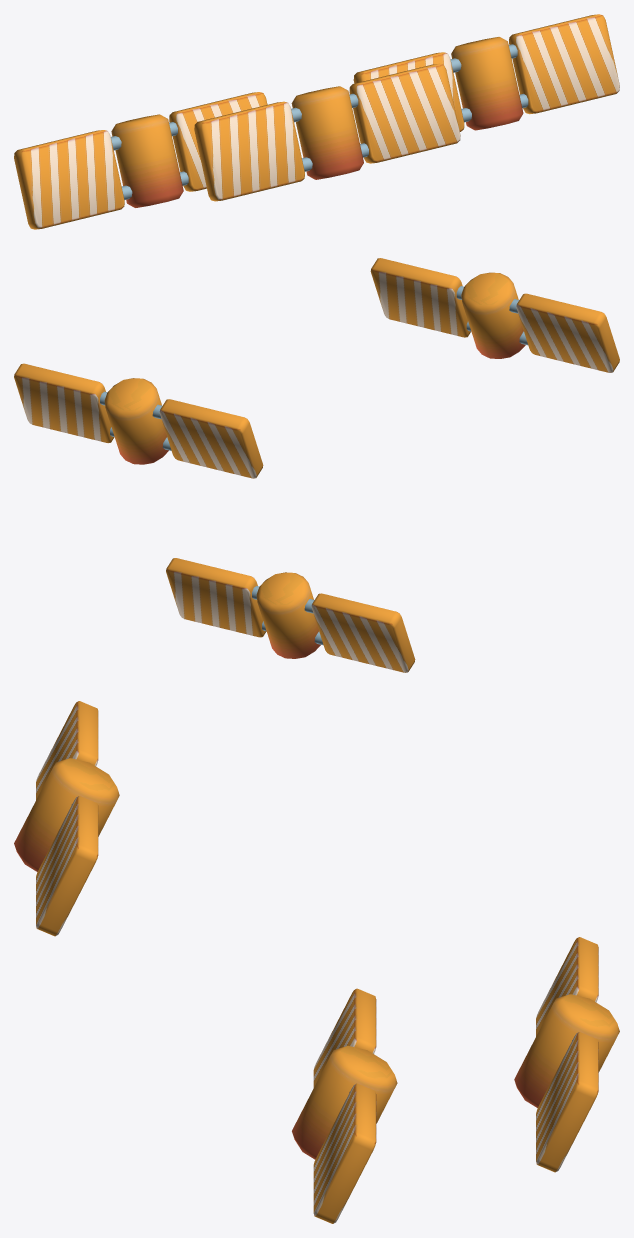
Rendered from alerones3.fbx.
3 views of the same model, one above another, from view 1: azimuth 30°, elevation 25°; view 2: azimuth 150°, elevation 25°; view 3: azimuth 270°, elevation 25° (orthographic). The views are drawn at different scales.
Visible parts, largest first — view 1: PaddleSmallv2b.007_SpinnyHammer3_0.001, PaddleSmallv2b.007_SpinnyHammer3_0.003, PaddleSmallv2b.007_SpinnyHammer3_0.002; view 2: PaddleSmallv2b.007_SpinnyHammer3_0.002, PaddleSmallv2b.007_SpinnyHammer3_0.001, PaddleSmallv2b.007_SpinnyHammer3_0.003; view 3: PaddleSmallv2b.007_SpinnyHammer3_0.002, PaddleSmallv2b.007_SpinnyHammer3_0.001, PaddleSmallv2b.007_SpinnyHammer3_0.003.
Boxes of the visible parts, left/top/right/bottom form: PaddleSmallv2b.007_SpinnyHammer3_0.001: left=194, top=63, right=460, bottom=201; PaddleSmallv2b.007_SpinnyHammer3_0.003: left=14, top=92, right=267, bottom=229; PaddleSmallv2b.007_SpinnyHammer3_0.002: left=353, top=14, right=619, bottom=131; PaddleSmallv2b.007_SpinnyHammer3_0.002: left=14, top=363, right=263, bottom=478; PaddleSmallv2b.007_SpinnyHammer3_0.001: left=370, top=258, right=619, bottom=372; PaddleSmallv2b.007_SpinnyHammer3_0.003: left=166, top=558, right=415, bottom=672; PaddleSmallv2b.007_SpinnyHammer3_0.002: left=292, top=988, right=397, bottom=1223; PaddleSmallv2b.007_SpinnyHammer3_0.001: left=14, top=701, right=119, bottom=936; PaddleSmallv2b.007_SpinnyHammer3_0.003: left=514, top=937, right=619, bottom=1172.
Size of the model in its own units: 909 by 452 by 739.
1 material, 1 textured.
